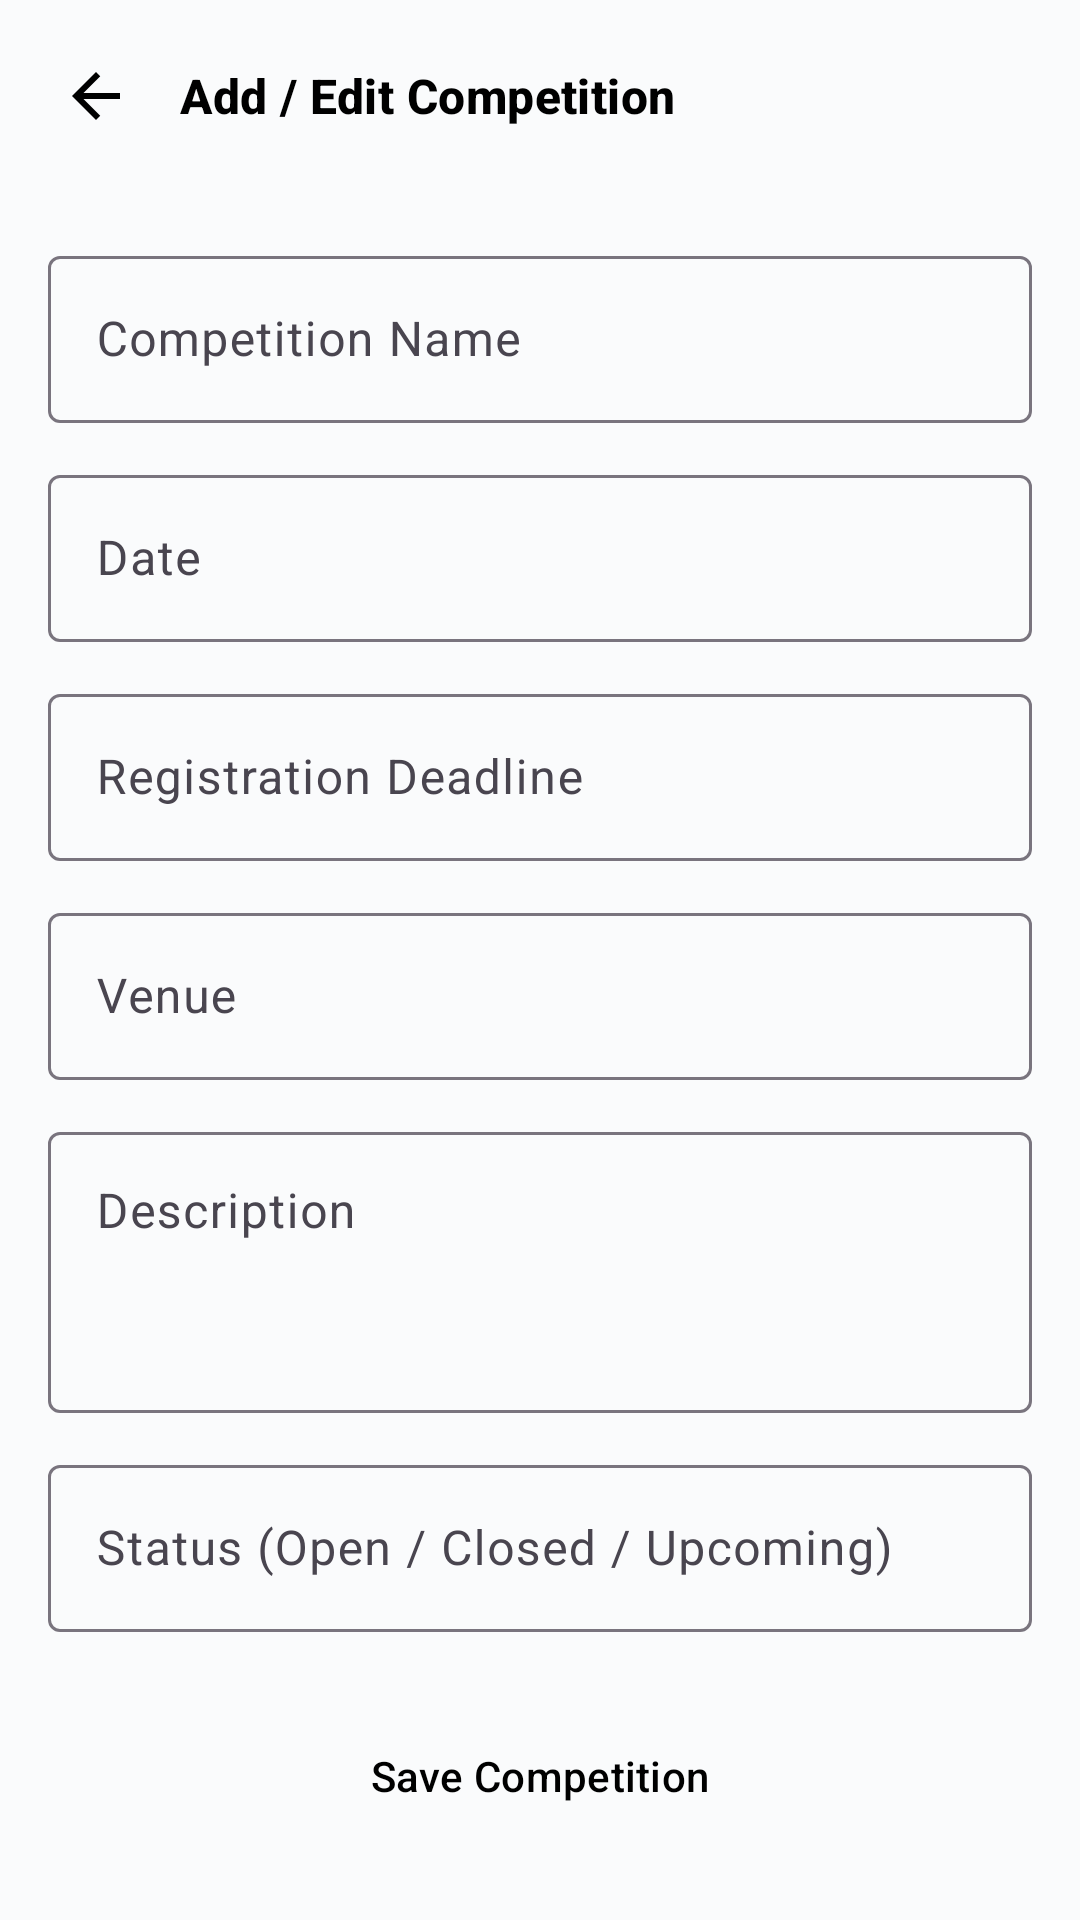

Locate icon controls on the screen. Image size 1080×1920, boxes as {"x1": x1, "y1": y1, "x2": x2, "y2": y2}.
Back: {"x1": 72, "y1": 72, "x2": 120, "y2": 120}
